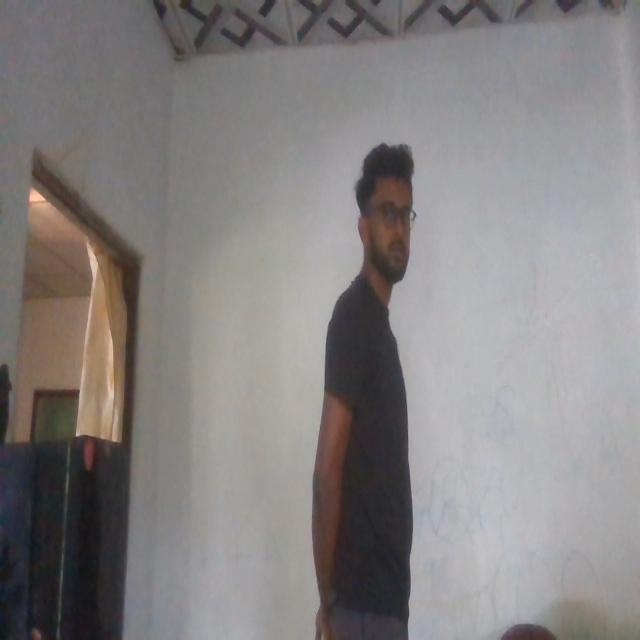Person: (302, 131, 429, 622)
